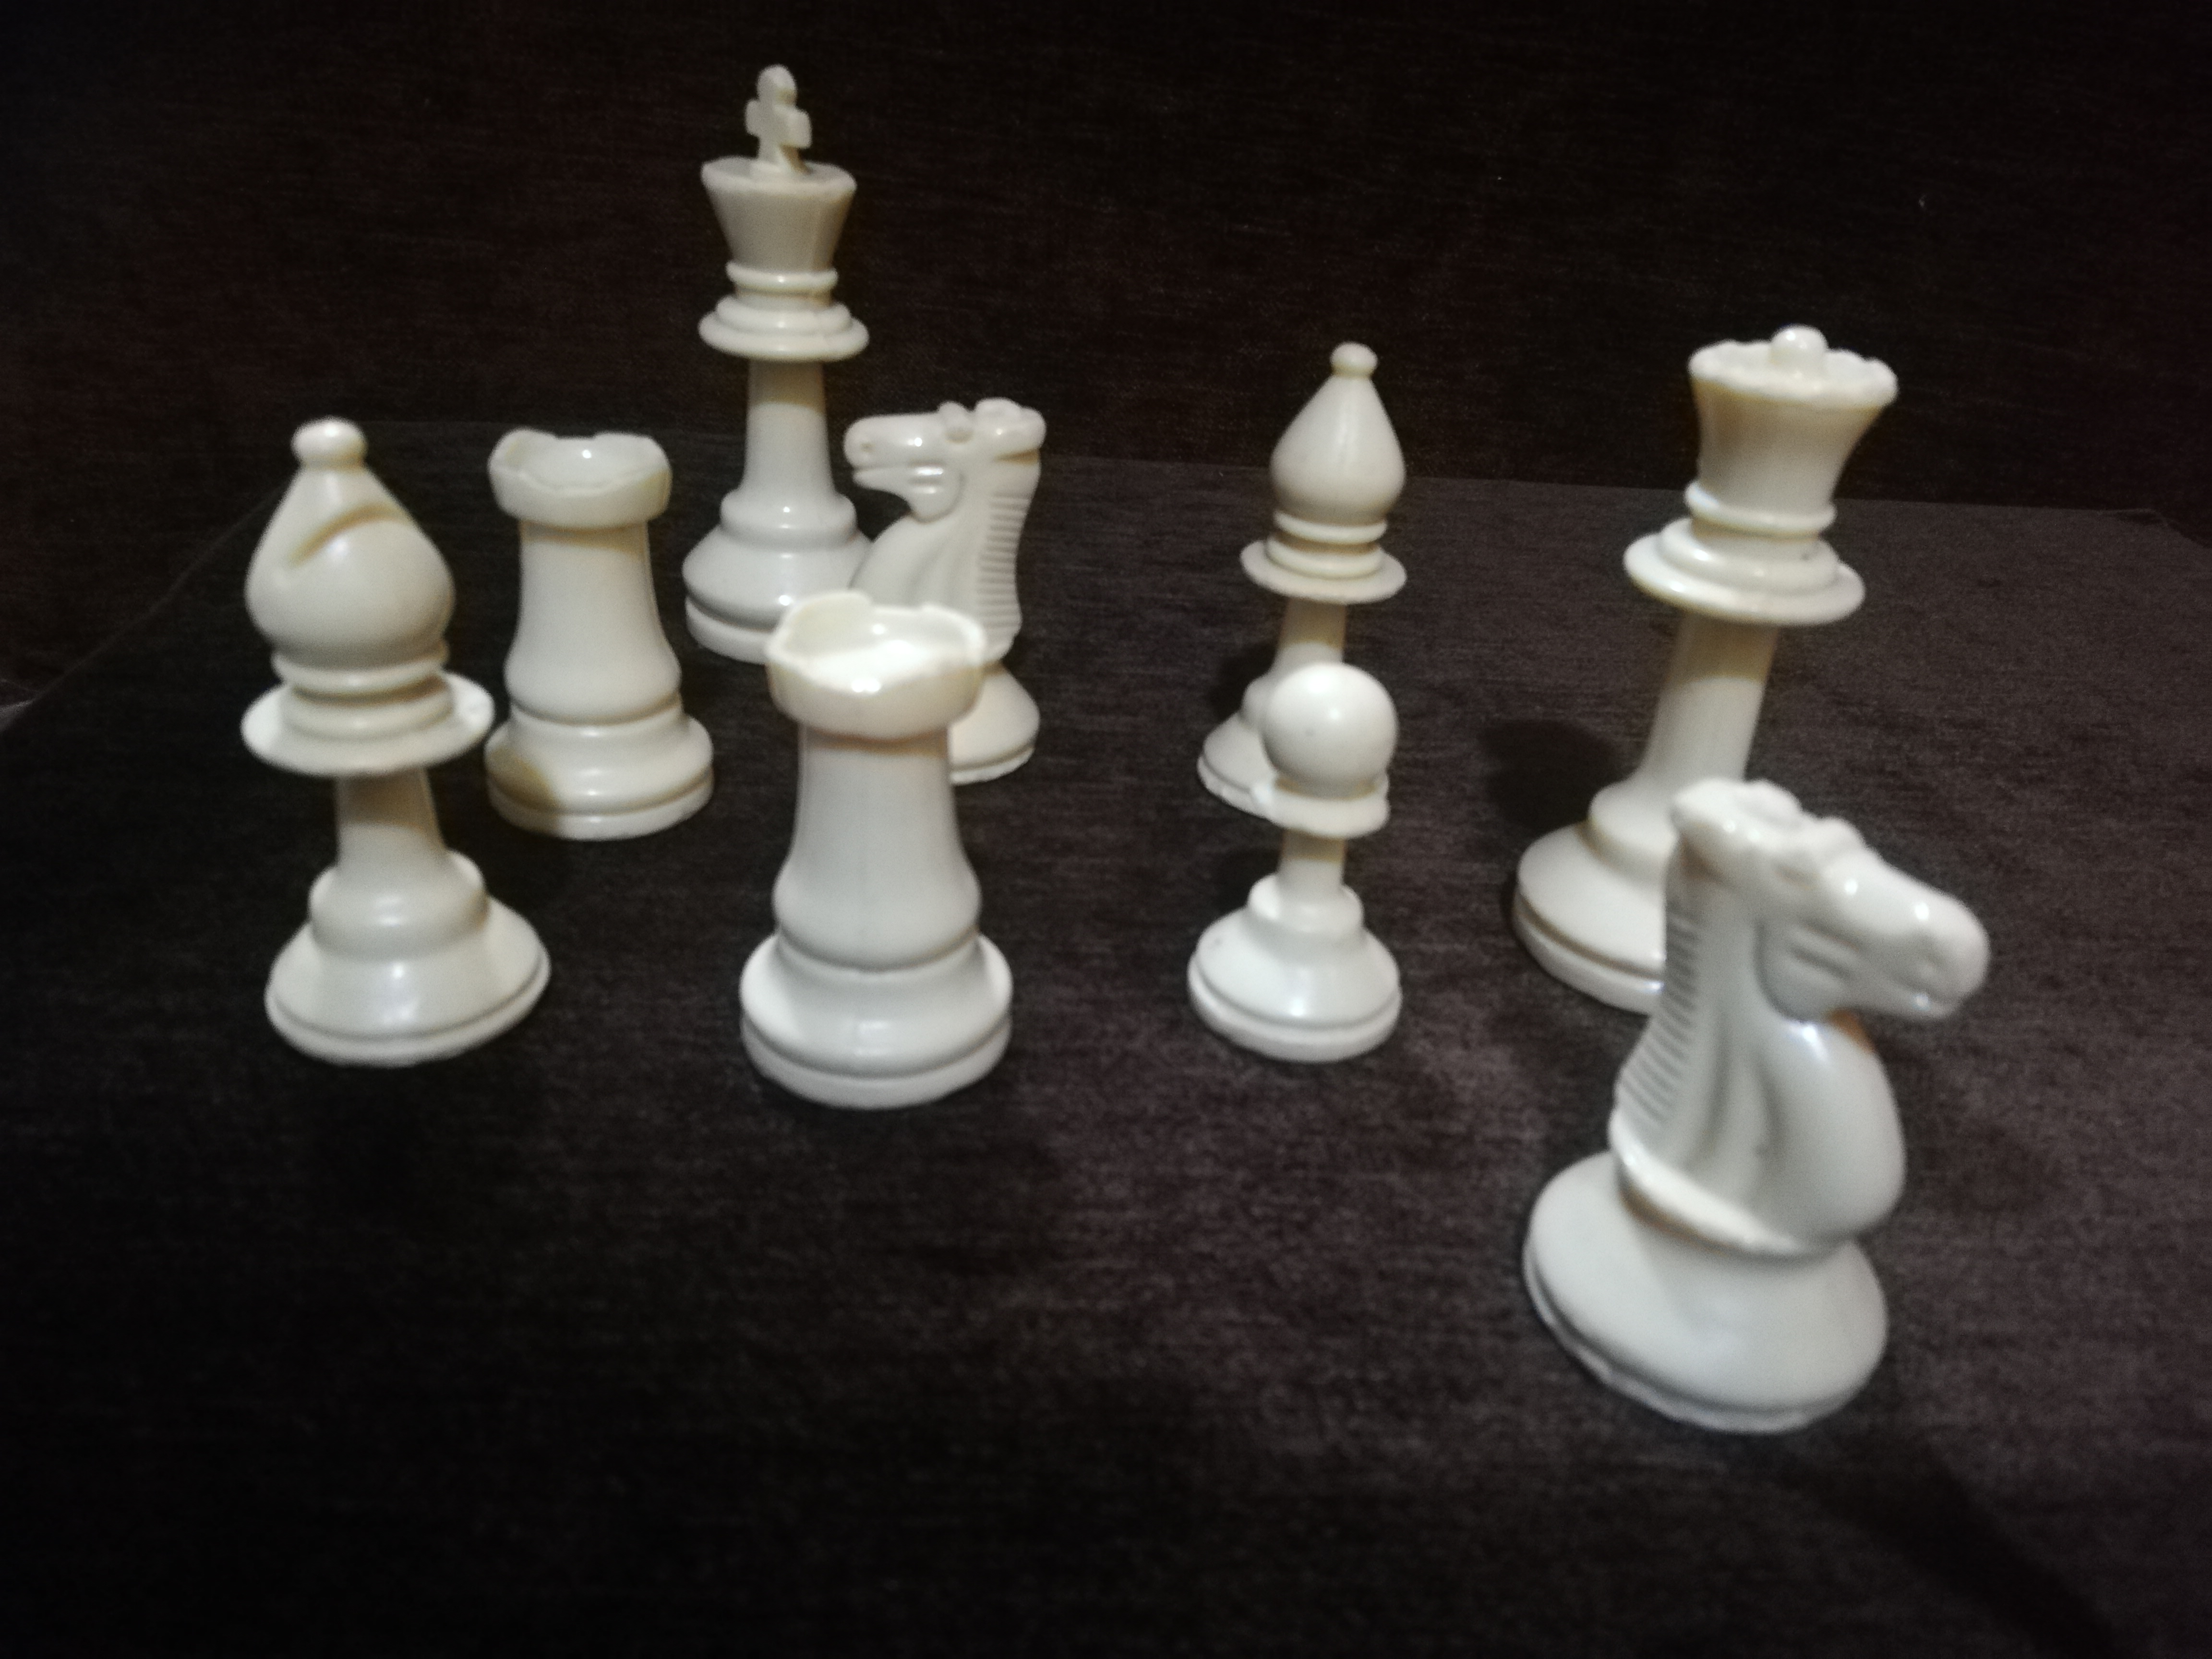Bishop: (193, 411, 559, 1034), (1214, 332, 1430, 653)
King: (659, 63, 893, 630)
Knight: (1528, 774, 2042, 1436), (842, 397, 1078, 595)
Pawn: (1192, 666, 1466, 1073)
Queen: (1508, 298, 1889, 760)
Rook: (740, 584, 1041, 1110), (486, 392, 739, 833)
